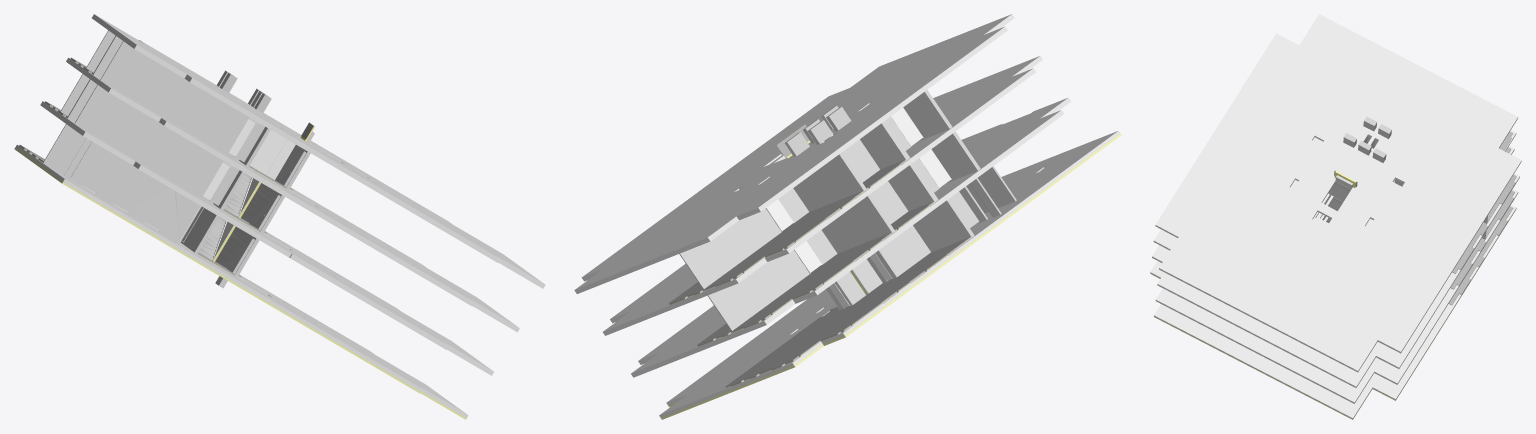
3 views of the same model, side by side, from view 1: azimuth 30°, elevation 25°; view 2: azimuth 150°, elevation 25°; view 3: azimuth 270°, elevation 25° (orthographic). The views are drawn at different scales.
Parts seen in each view (by area): view 1: mesh; view 2: mesh; view 3: mesh.
Part boxes in pixels (x1,y1,x2,y2): mesh: (14, 14, 545, 419); mesh: (574, 14, 1121, 419); mesh: (1150, 14, 1521, 419).
Bounding box in the file's own units: 33.59 × 28.7 × 32.06.
